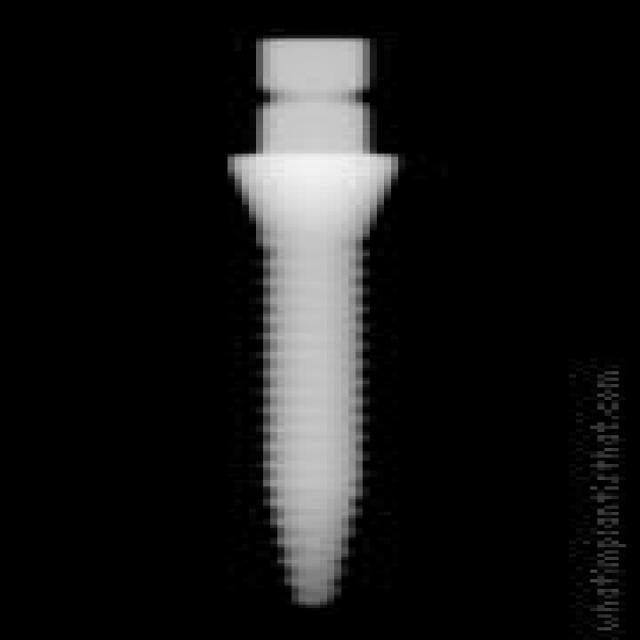Leone Implant: (216, 38, 409, 610)
